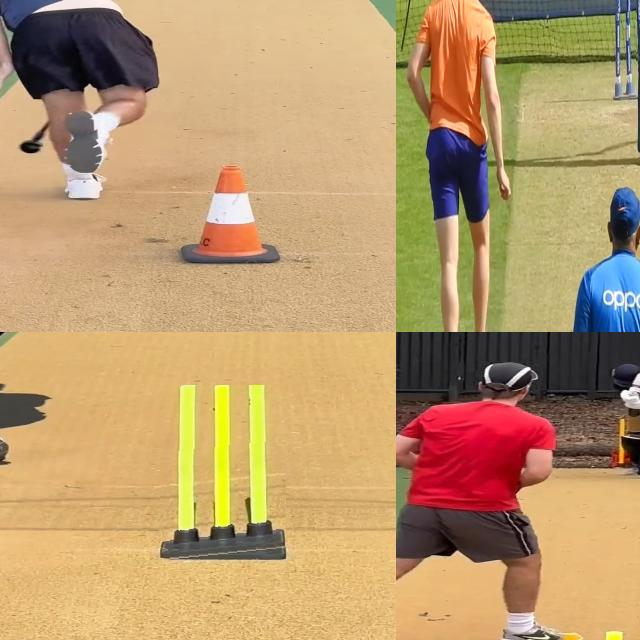Stumps: (156, 385, 287, 561), (614, 0, 637, 99)
